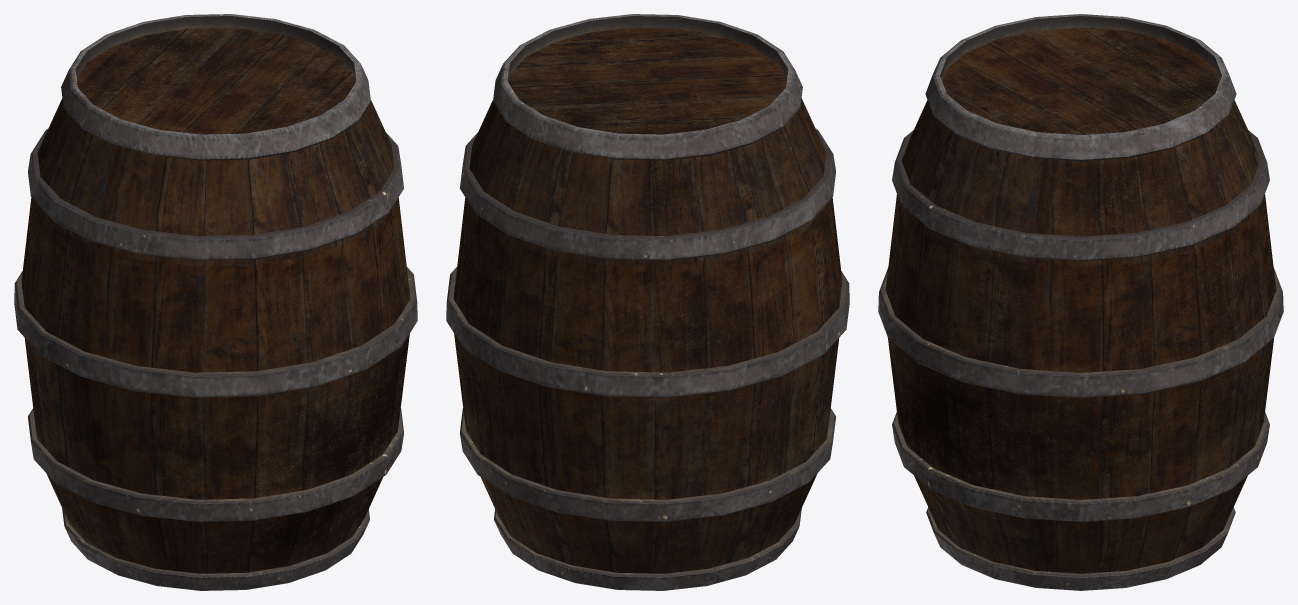
File: Barrel.fbx
3 renders of one model, left to right at view 1: azimuth 30°, elevation 25°; view 2: azimuth 150°, elevation 25°; view 3: azimuth 270°, elevation 25°, orthographic.
Parts seen in each view (by area): view 1: BarrelMesh; view 2: BarrelMesh; view 3: BarrelMesh.
Part boxes in pixels (box(x1,y1,x2,y2)): BarrelMesh: box(14, 14, 417, 590); BarrelMesh: box(446, 14, 849, 590); BarrelMesh: box(878, 14, 1283, 590).
Size of the model in its own units: 123 by 152 by 123.
Materials: 1 (1 with a texture image).
